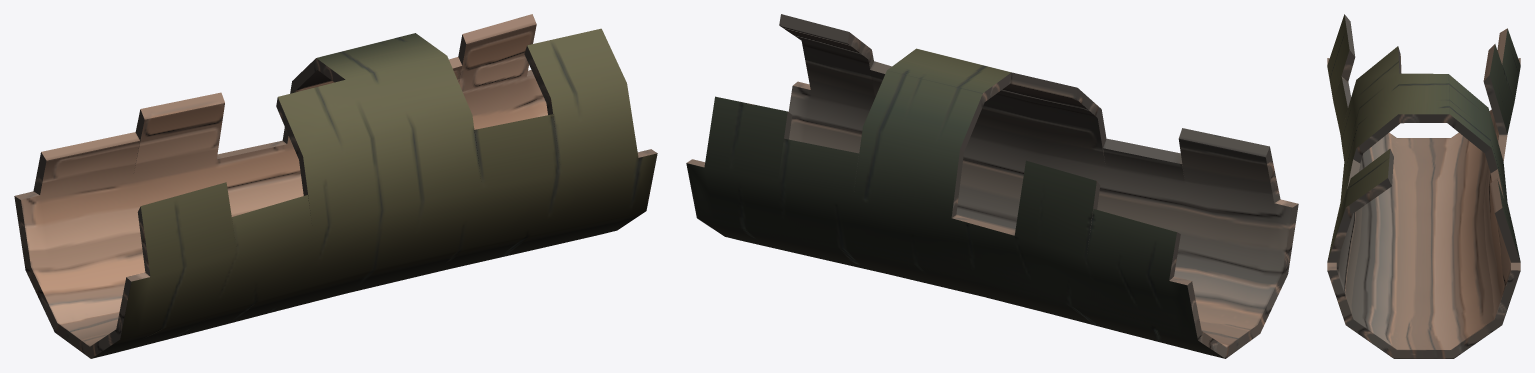
File: bridge.fbx
3 views of the same model, side by side, from view 1: azimuth 30°, elevation 25°; view 2: azimuth 150°, elevation 25°; view 3: azimuth 270°, elevation 25° (orthographic). The views are drawn at different scales.
Parts seen in each view (by area): view 1: bridge1; view 2: bridge1; view 3: bridge1.
Boxes of the visible parts, bbox=[...] form: bridge1: bbox=[14, 14, 657, 358]; bridge1: bbox=[686, 14, 1298, 358]; bridge1: bbox=[1327, 14, 1520, 358].
Size of the model in its own units: 10.22 by 3.97 by 3.94.
